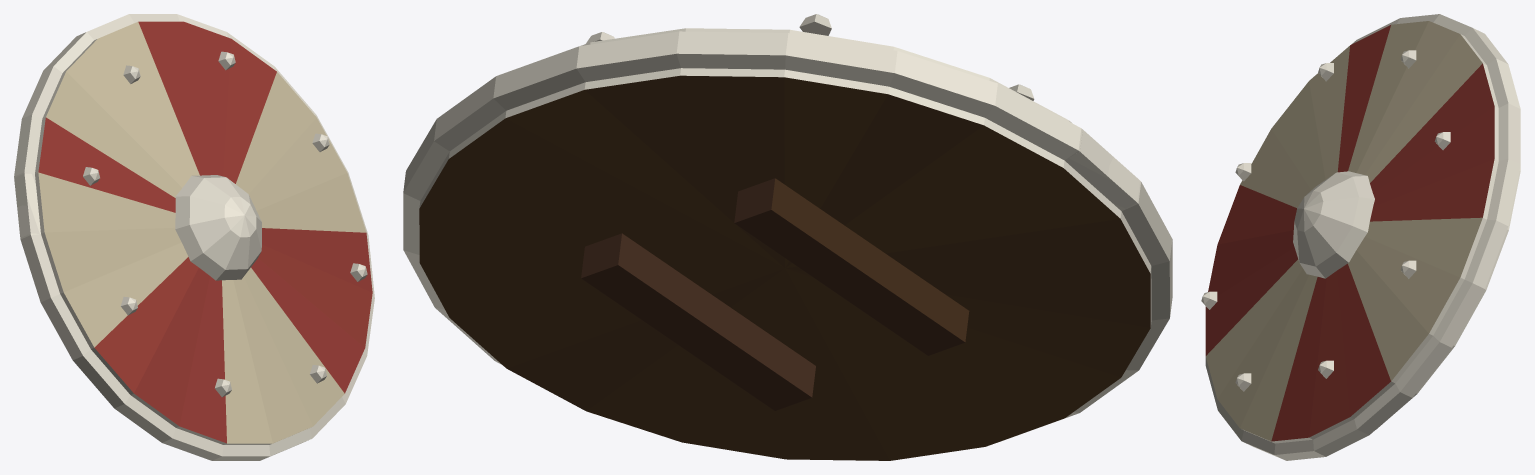
The model's file is armor_shield_round.glb.
3 renders of one model, left to right at view 1: azimuth 30°, elevation 25°; view 2: azimuth 150°, elevation 25°; view 3: azimuth 270°, elevation 25°, orthographic. The views are drawn at different scales.
Visible parts, largest first — view 1: armor_shield_round; view 2: armor_shield_round; view 3: armor_shield_round.
Boxes of the visible parts, bbox=[...] form: armor_shield_round: bbox=[14, 14, 374, 460]; armor_shield_round: bbox=[403, 14, 1172, 460]; armor_shield_round: bbox=[1201, 14, 1520, 460].
Bounding box in the file's own units: 0.5975 × 0.5332 × 0.4223.
